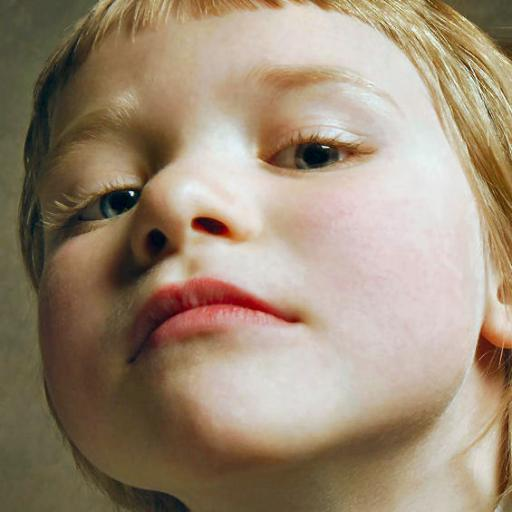Autism: (13, 14, 505, 496)
